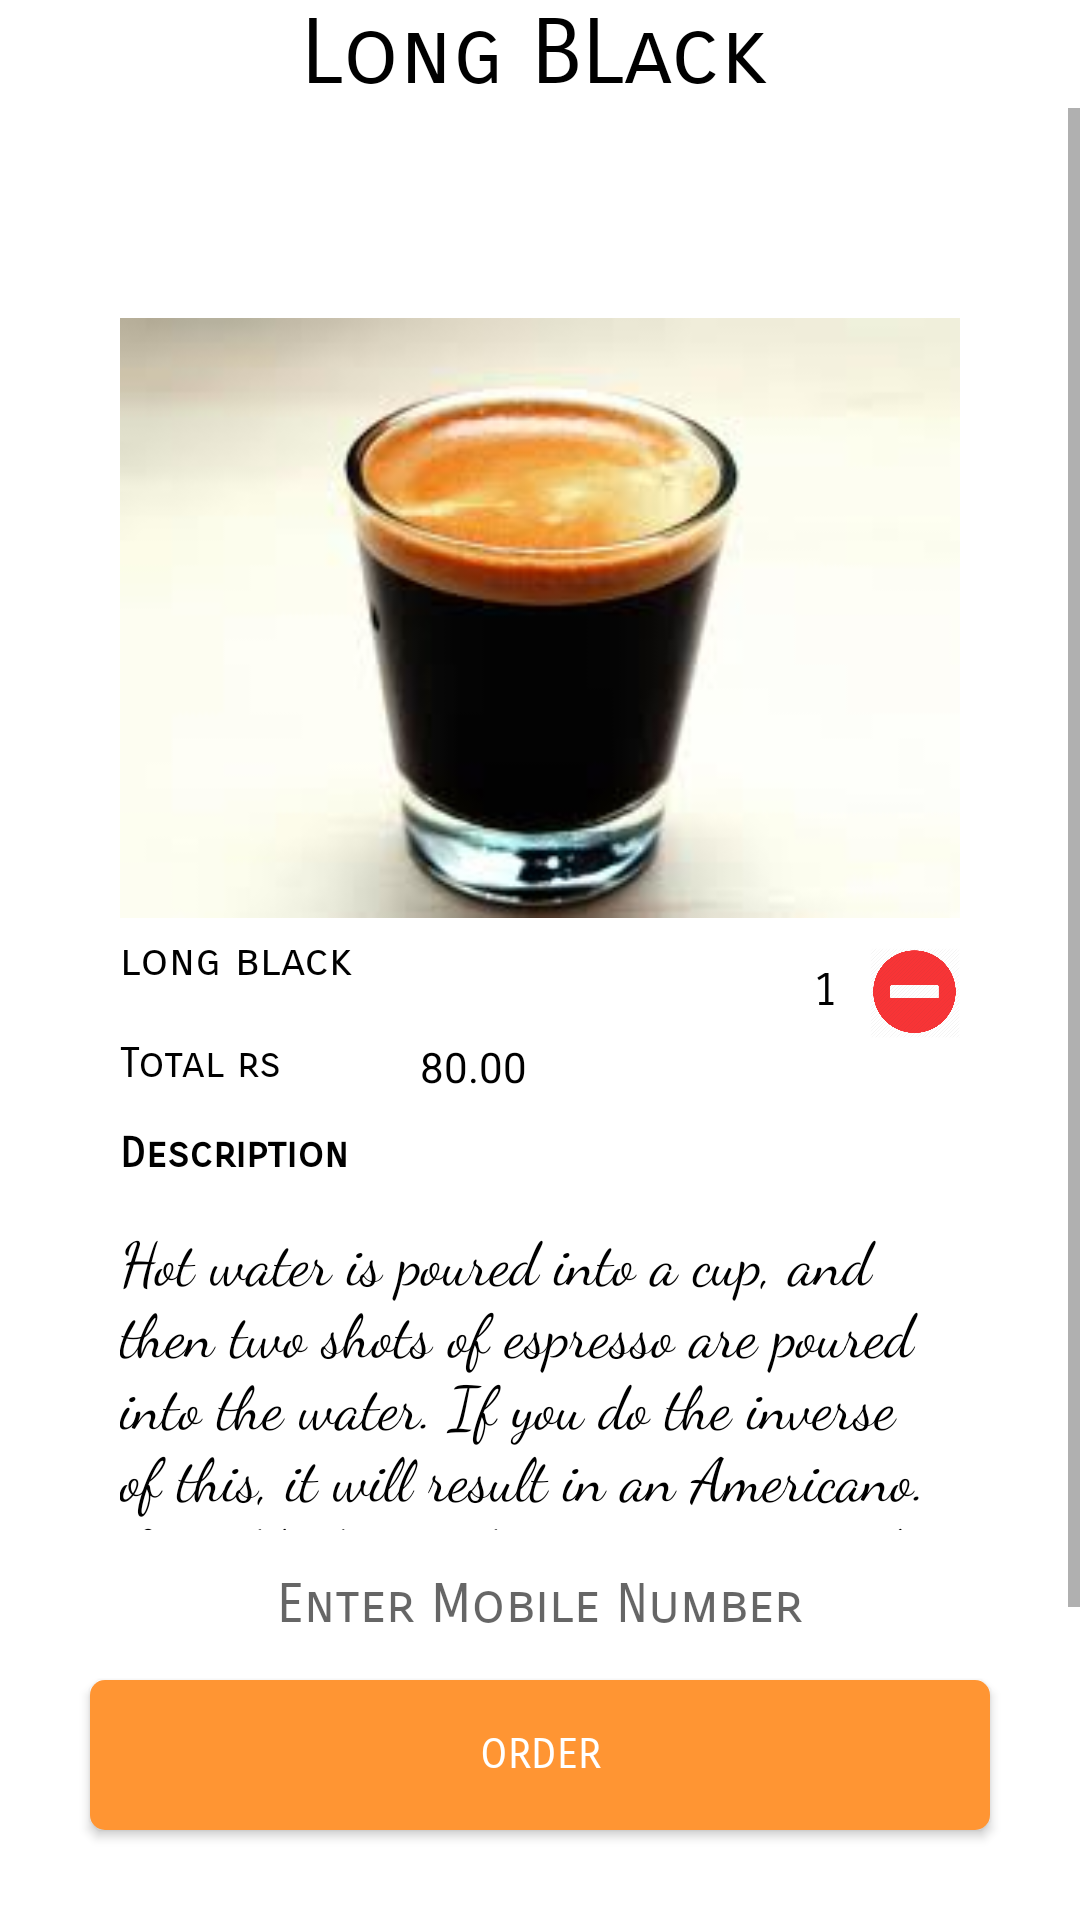

Icon click points for this 1080 × 1920 phone screenshot, format (x,y):
minus: (914,991)
